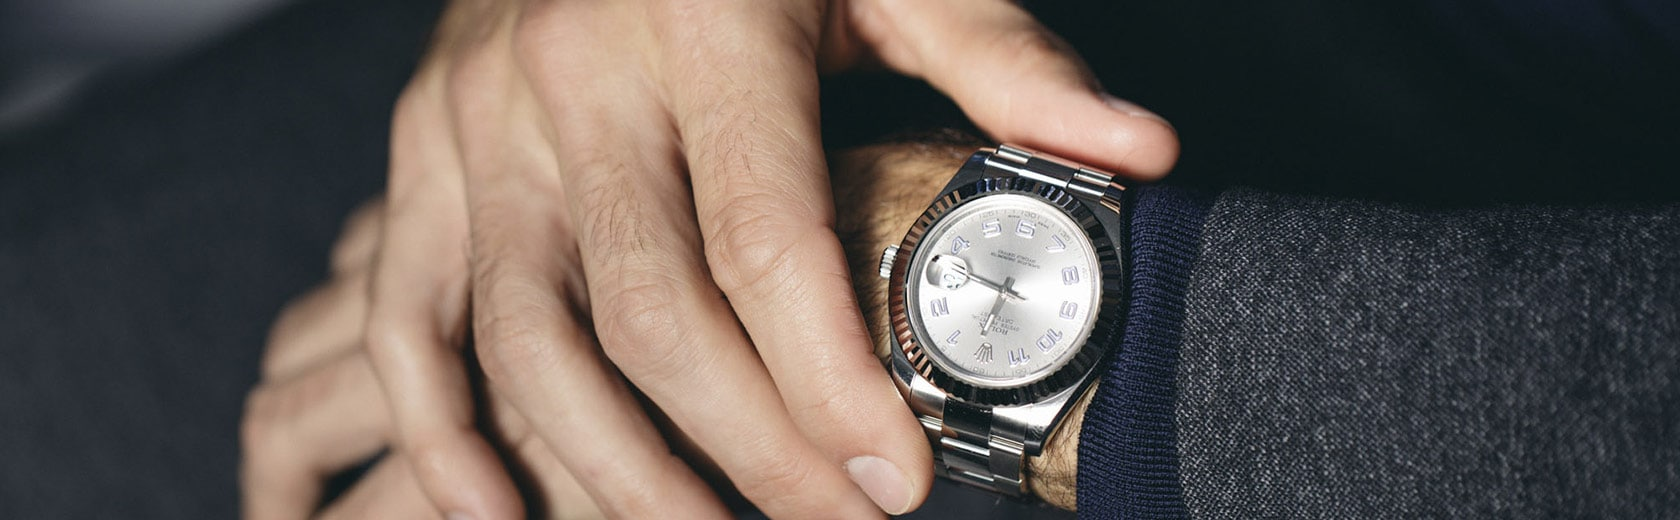clock: (905, 193, 1102, 388)
